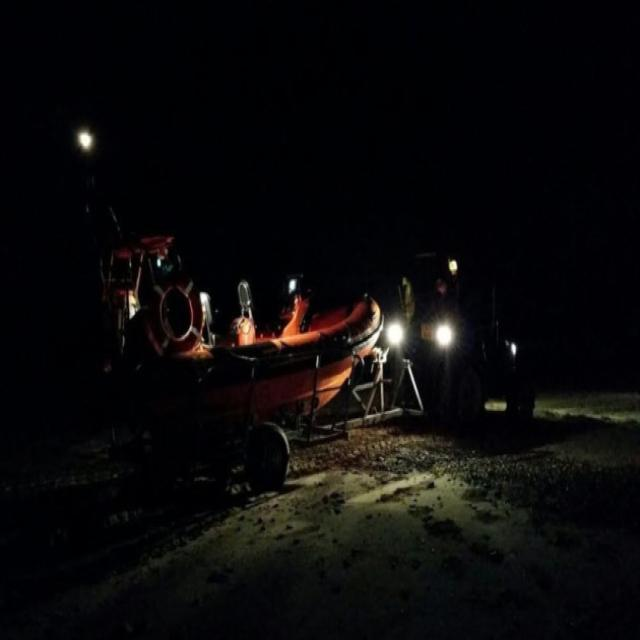Boat: (86, 201, 404, 494)
car: (395, 223, 529, 434)
